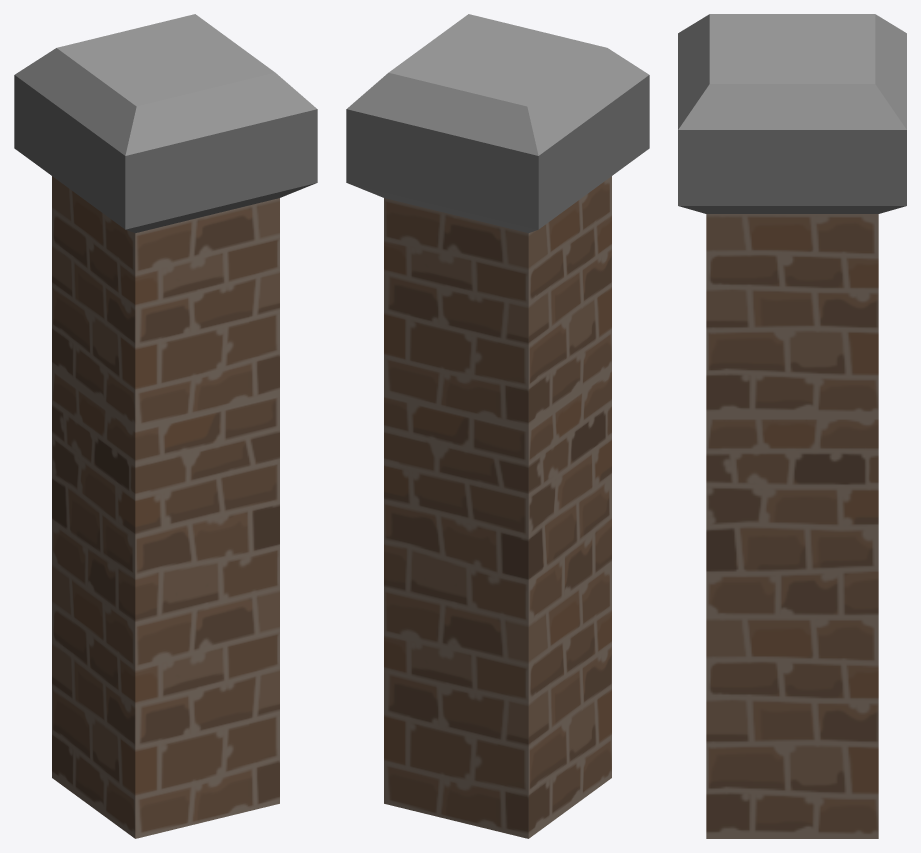
Rendered from Column_01.fbx.
3 views of the same model, side by side, from view 1: azimuth 30°, elevation 25°; view 2: azimuth 150°, elevation 25°; view 3: azimuth 270°, elevation 25° (orthographic). The views are drawn at different scales.
Visible parts, largest first — view 1: Column_01; view 2: Column_01; view 3: Column_01.
Boxes of the visible parts, left/top/right/bottom form: Column_01: left=14, top=14, right=317, bottom=838; Column_01: left=346, top=14, right=649, bottom=838; Column_01: left=678, top=14, right=906, bottom=838.
Bounding box in the file's own units: 69 × 251 × 69.
Materials: 1 (1 with a texture image).
